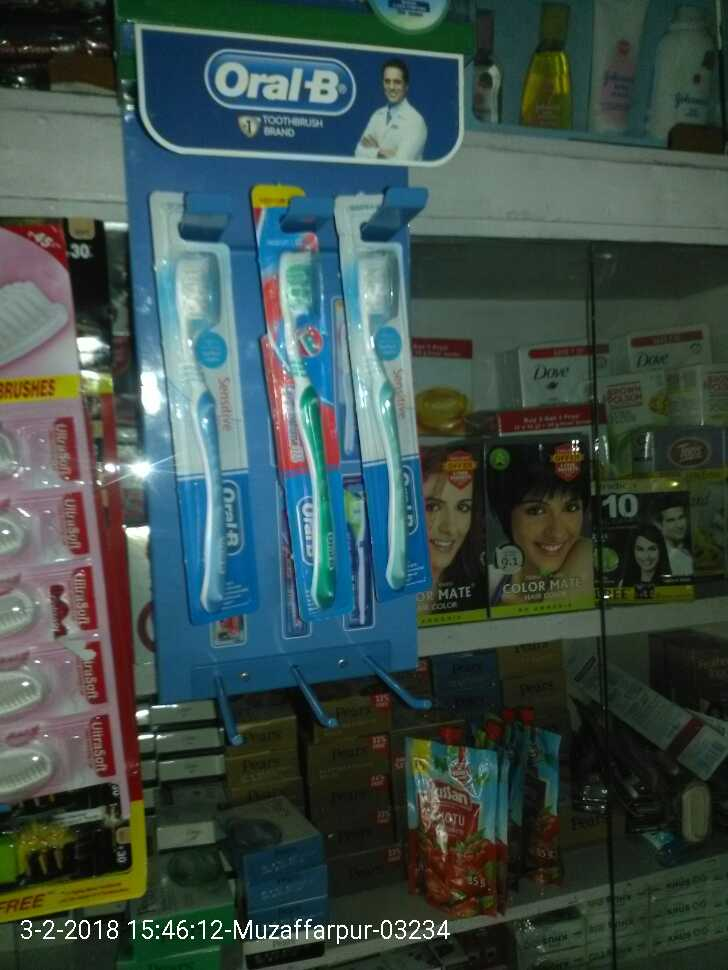oralb: (345, 221, 442, 589), (172, 213, 254, 626), (271, 224, 360, 603)
